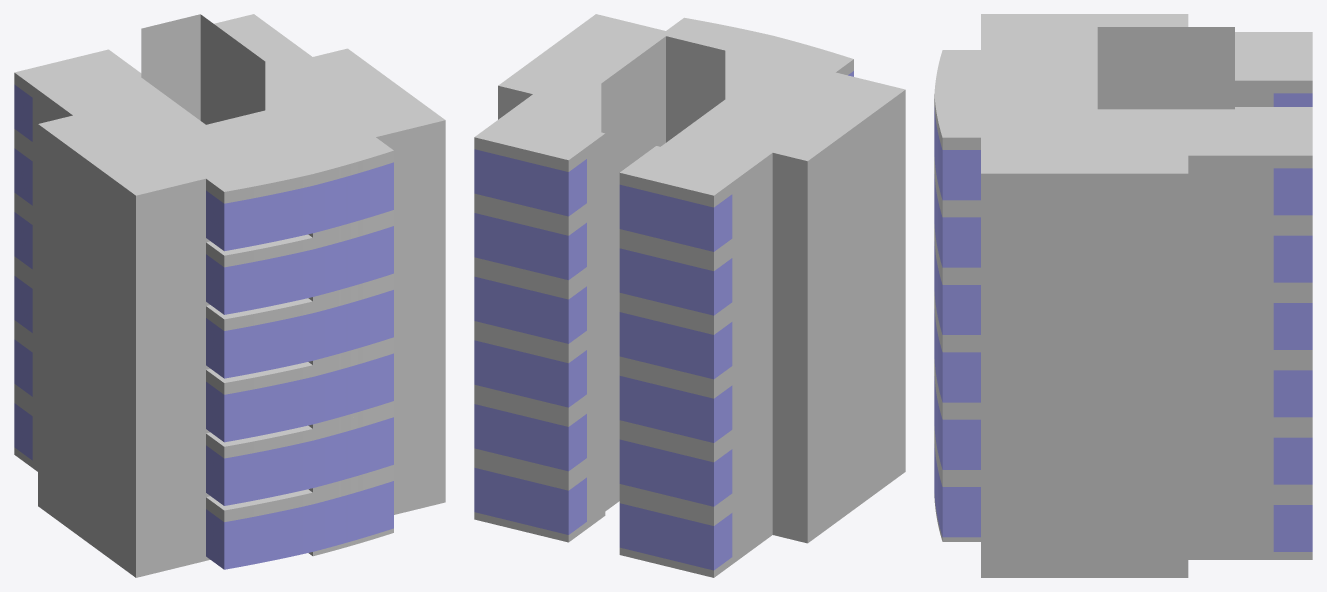
3 renders of one model, left to right at view 1: azimuth 30°, elevation 25°; view 2: azimuth 150°, elevation 25°; view 3: azimuth 270°, elevation 25°, orthographic. The views are drawn at different scales.
Visible parts, largest first — view 1: 3DGeom-9, 3DGeom-7, 3DGeom-3, 3DGeom-1, 3DGeom-11, 3DGeom-5, 3DGeom-4, 3DGeom-2, 3DGeom-8, 3DGeom-10, 3DGeom-12, 3DGeom-6; view 2: 3DGeom-9, 3DGeom-11, 3DGeom-1, 3DGeom-7, 3DGeom-3, 3DGeom-5, 3DGeom-10, 3DGeom-2, 3DGeom-6, 3DGeom-8, 3DGeom-4, 3DGeom-12; view 3: 3DGeom-9, 3DGeom-7, 3DGeom-5, 3DGeom-3, 3DGeom-11, 3DGeom-1, 3DGeom-10, 3DGeom-4, 3DGeom-6, 3DGeom-8, 3DGeom-2, 3DGeom-12.
Boxes of the visible parts, box(x1,y1,x2,y2) form: 3DGeom-9: box(14, 14, 445, 259); 3DGeom-7: box(14, 264, 445, 450); 3DGeom-3: box(14, 327, 445, 514); 3DGeom-1: box(14, 391, 445, 577); 3DGeom-11: box(14, 200, 445, 386); 3DGeom-5: box(14, 136, 445, 322); 3DGeom-4: box(14, 339, 393, 505); 3DGeom-2: box(14, 403, 393, 569); 3DGeom-8: box(14, 276, 393, 442); 3DGeom-10: box(14, 84, 393, 251); 3DGeom-12: box(14, 212, 393, 378); 3DGeom-6: box(14, 148, 393, 314); 3DGeom-9: box(474, 14, 905, 259); 3DGeom-11: box(474, 217, 905, 386); 3DGeom-1: box(474, 408, 905, 577); 3DGeom-7: box(474, 281, 905, 450); 3DGeom-3: box(474, 344, 905, 514); 3DGeom-5: box(474, 153, 905, 322); 3DGeom-10: box(474, 71, 853, 251); 3DGeom-2: box(474, 467, 732, 570); 3DGeom-6: box(474, 213, 732, 315); 3DGeom-8: box(474, 340, 732, 442); 3DGeom-4: box(474, 404, 732, 506); 3DGeom-12: box(474, 276, 732, 379); 3DGeom-9: box(934, 14, 1312, 240); 3DGeom-7: box(934, 296, 1312, 443); 3DGeom-5: box(934, 162, 1312, 308); 3DGeom-3: box(934, 364, 1312, 510); 3DGeom-11: box(934, 229, 1312, 375); 3DGeom-1: box(934, 431, 1312, 577); 3DGeom-10: box(934, 93, 1312, 215); 3DGeom-4: box(934, 376, 1312, 484); 3DGeom-6: box(934, 174, 1312, 282); 3DGeom-8: box(934, 309, 1312, 417); 3DGeom-2: box(934, 444, 1312, 551); 3DGeom-12: box(934, 241, 1312, 349).
Bounding box in the file's own units: 4.45 × 5.92 × 4.45.
